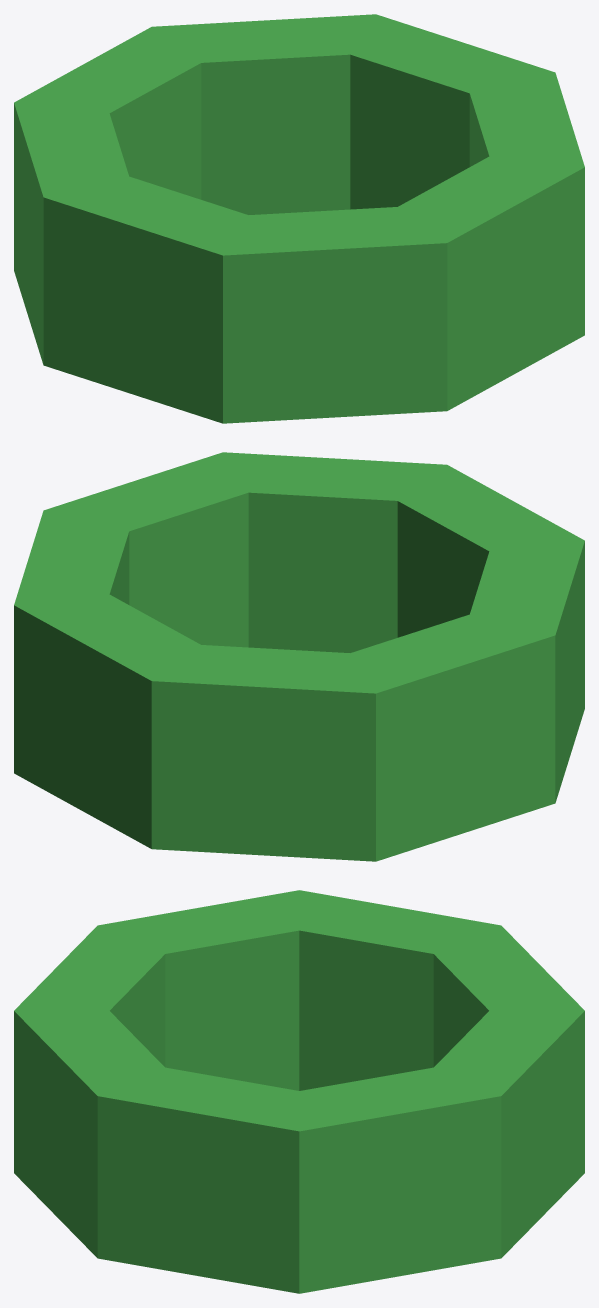
The model's file is Bolt.fbx.
3 views of the same model, one above another, from view 1: azimuth 30°, elevation 25°; view 2: azimuth 150°, elevation 25°; view 3: azimuth 270°, elevation 25° (orthographic). The views are drawn at different scales.
Visible parts, largest first — view 1: Bolt; view 2: Bolt; view 3: Bolt.
Part boxes in pixels (bbox=[...]): Bolt: bbox=[14, 14, 584, 423]; Bolt: bbox=[14, 452, 584, 861]; Bolt: bbox=[14, 890, 584, 1293].
Size of the model in its own units: 2.37 by 0.7433 by 2.37.
1 material, 1 textured.
